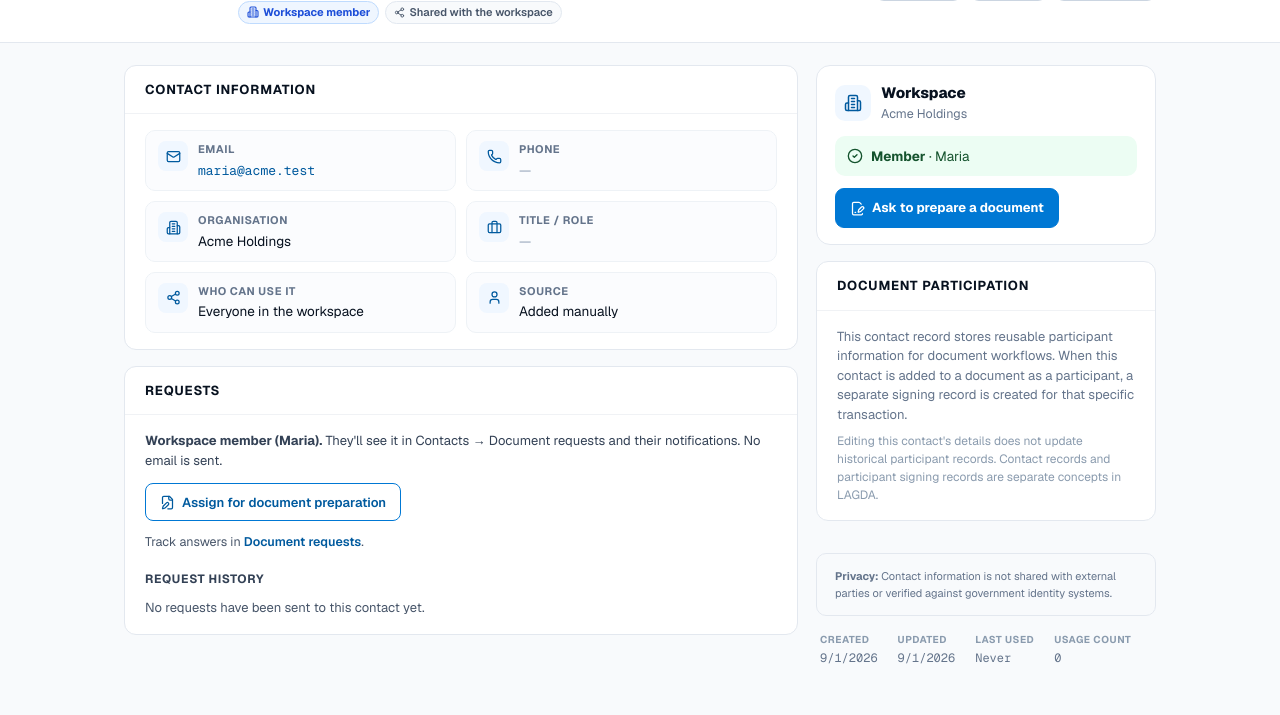
it: Contact detail › lets a member be assigned for preparation
(page scrolled)
Expected: the text "No email is sent" is shown, x1=145 y1=432 x2=760 y2=469
Click the button "Assign for document preparation" at [273, 502], box x1=145 y1=484 x2=401 y2=522
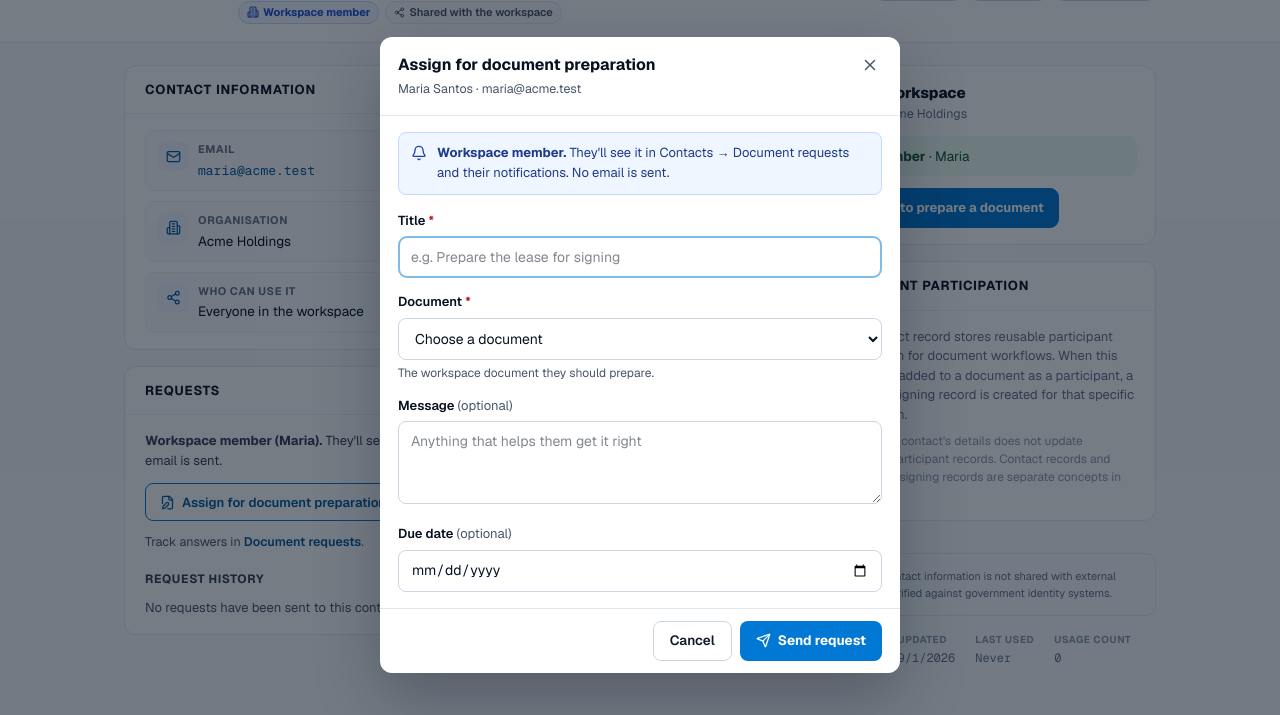
Now the dialog "Assign for document preparation" is shown, box x1=380 y1=38 x2=900 y2=672
